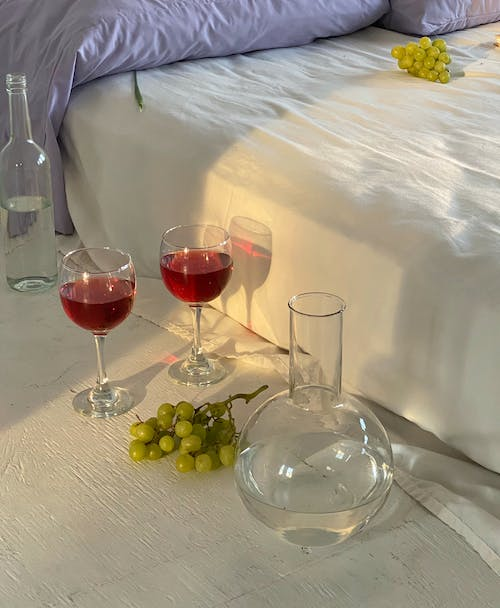alcohol: (57, 243, 139, 421), (157, 222, 235, 387)
